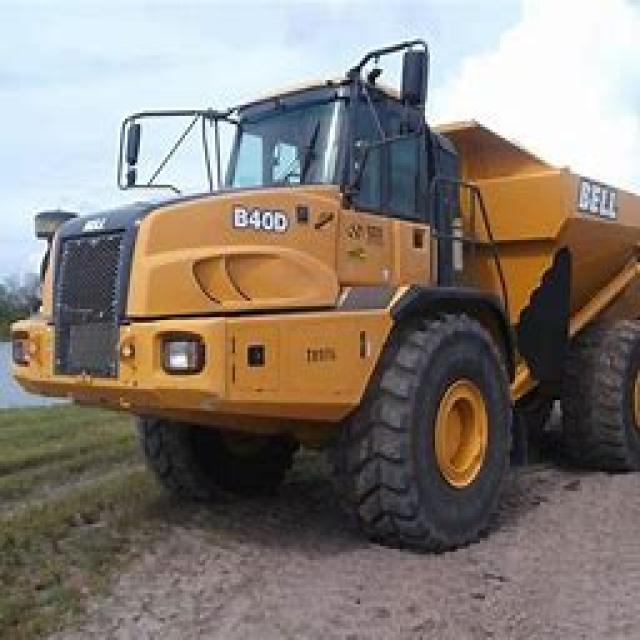dump_truck: (28, 69, 638, 543)
